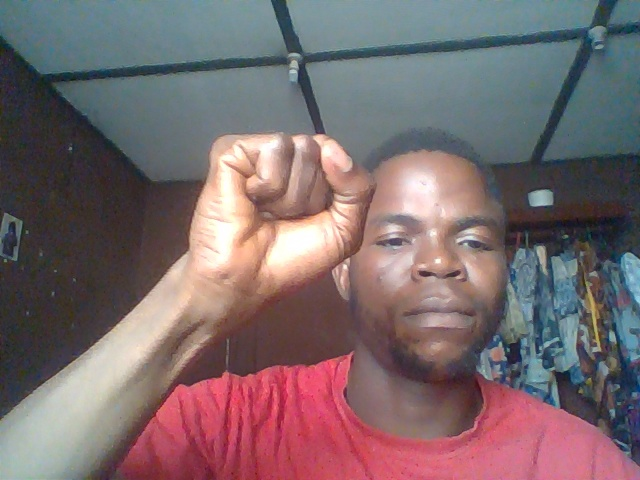Unity: (172, 127, 379, 369)
